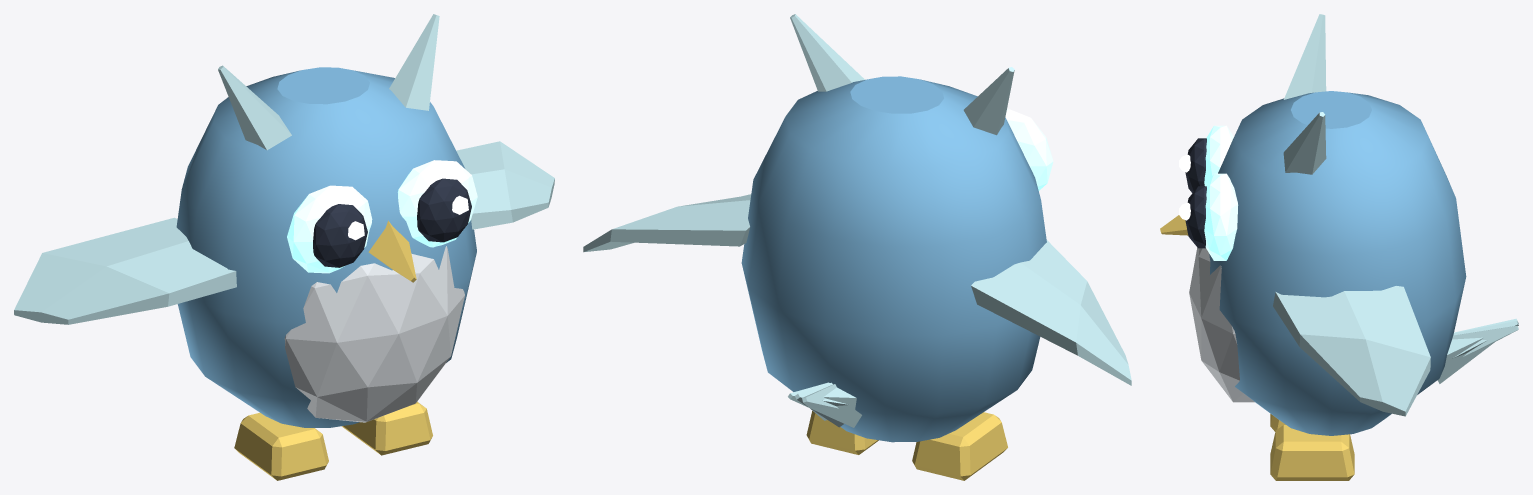
The model's file is ShardOwl.glb.
3 renders of one model, left to right at view 1: azimuth 30°, elevation 25°; view 2: azimuth 150°, elevation 25°; view 3: azimuth 270°, elevation 25°, orthographic. The views are drawn at different scales.
Parts seen in each view (by area): view 1: ShardOwl; view 2: ShardOwl; view 3: ShardOwl.
Part boxes in pixels (<box>): ShardOwl: <box>14,14,554,480</box>; ShardOwl: <box>583,14,1131,480</box>; ShardOwl: <box>1160,14,1518,480</box>.
Size of the model in its own units: 4.37 by 3.12 by 2.65.
